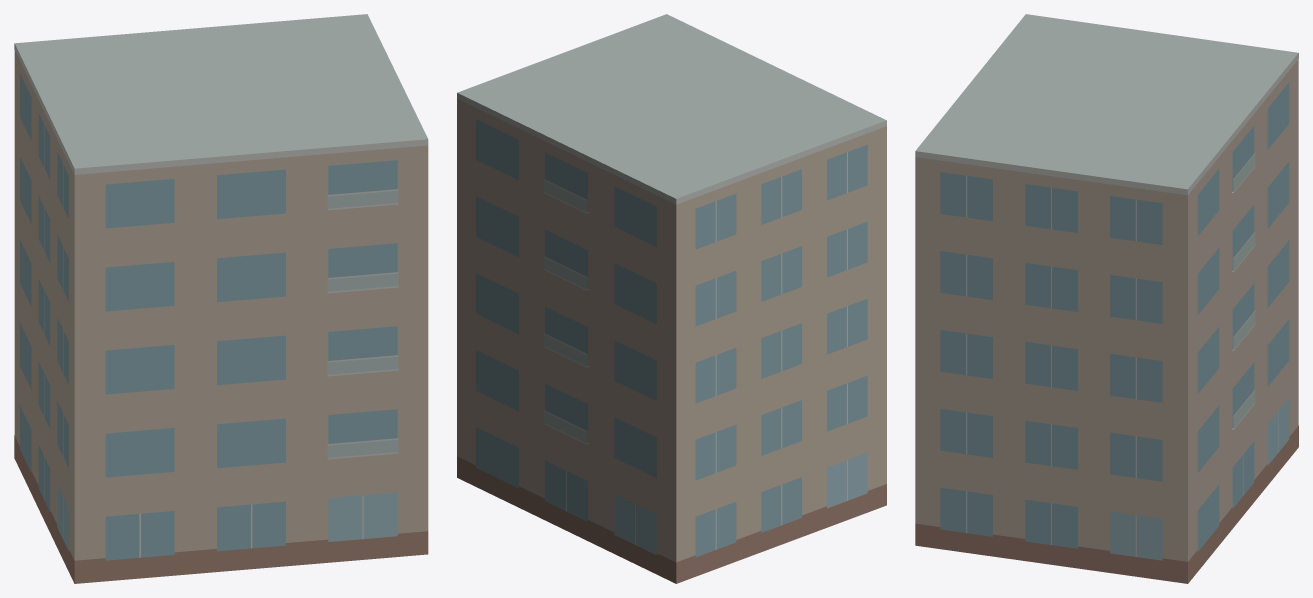
File: survey-upis-32598770.glb
3 views of the same model, side by side, from view 1: azimuth 30°, elevation 25°; view 2: azimuth 150°, elevation 25°; view 3: azimuth 270°, elevation 25° (orthographic). The views are drawn at different scales.
Visible parts, largest first — view 1: survey-upis-32598770.tmp; view 2: survey-upis-32598770.tmp; view 3: survey-upis-32598770.tmp.
Boxes of the visible parts, x1,y1,x2,y2 form: survey-upis-32598770.tmp: (14, 14, 428, 583); survey-upis-32598770.tmp: (457, 14, 886, 583); survey-upis-32598770.tmp: (915, 14, 1298, 583).
Size of the model in its own units: 15.45 by 16.2 by 14.28.
